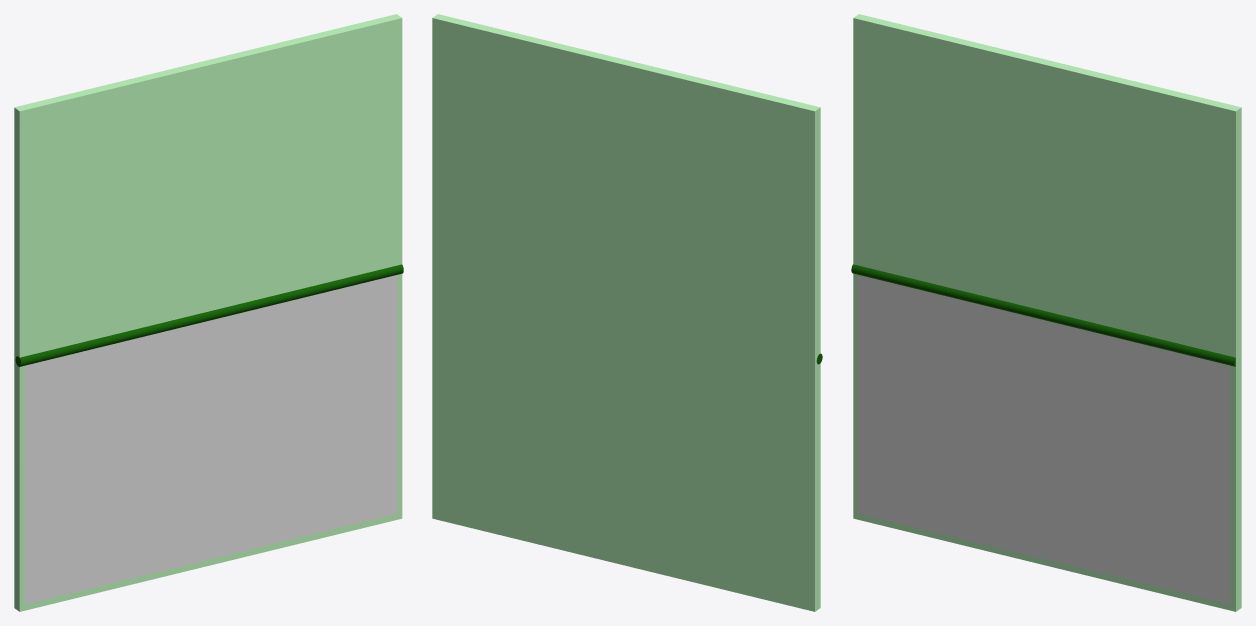
File: Calendar.glb
3 views of the same model, side by side, from view 1: azimuth 30°, elevation 25°; view 2: azimuth 150°, elevation 25°; view 3: azimuth 330°, elevation 25° (orthographic).
Parts seen in each view (by area): view 1: Calendar Base, Calendar Page, Calendar Spine; view 2: Calendar Base; view 3: Calendar Base, Calendar Page, Calendar Spine.
Boxes of the visible parts, x1=… form: Calendar Base: x1=14, y1=14, x2=402, y2=611; Calendar Page: x1=24, y1=275, x2=397, y2=604; Calendar Spine: x1=15, y1=264, x2=403, y2=366; Calendar Base: x1=432, y1=14, x2=820, y2=611; Calendar Base: x1=853, y1=14, x2=1241, y2=611; Calendar Page: x1=857, y1=274, x2=1230, y2=604; Calendar Spine: x1=851, y1=264, x2=1235, y2=366.
Size of the model in its own units: 0.8006 by 1 by 0.0262.
